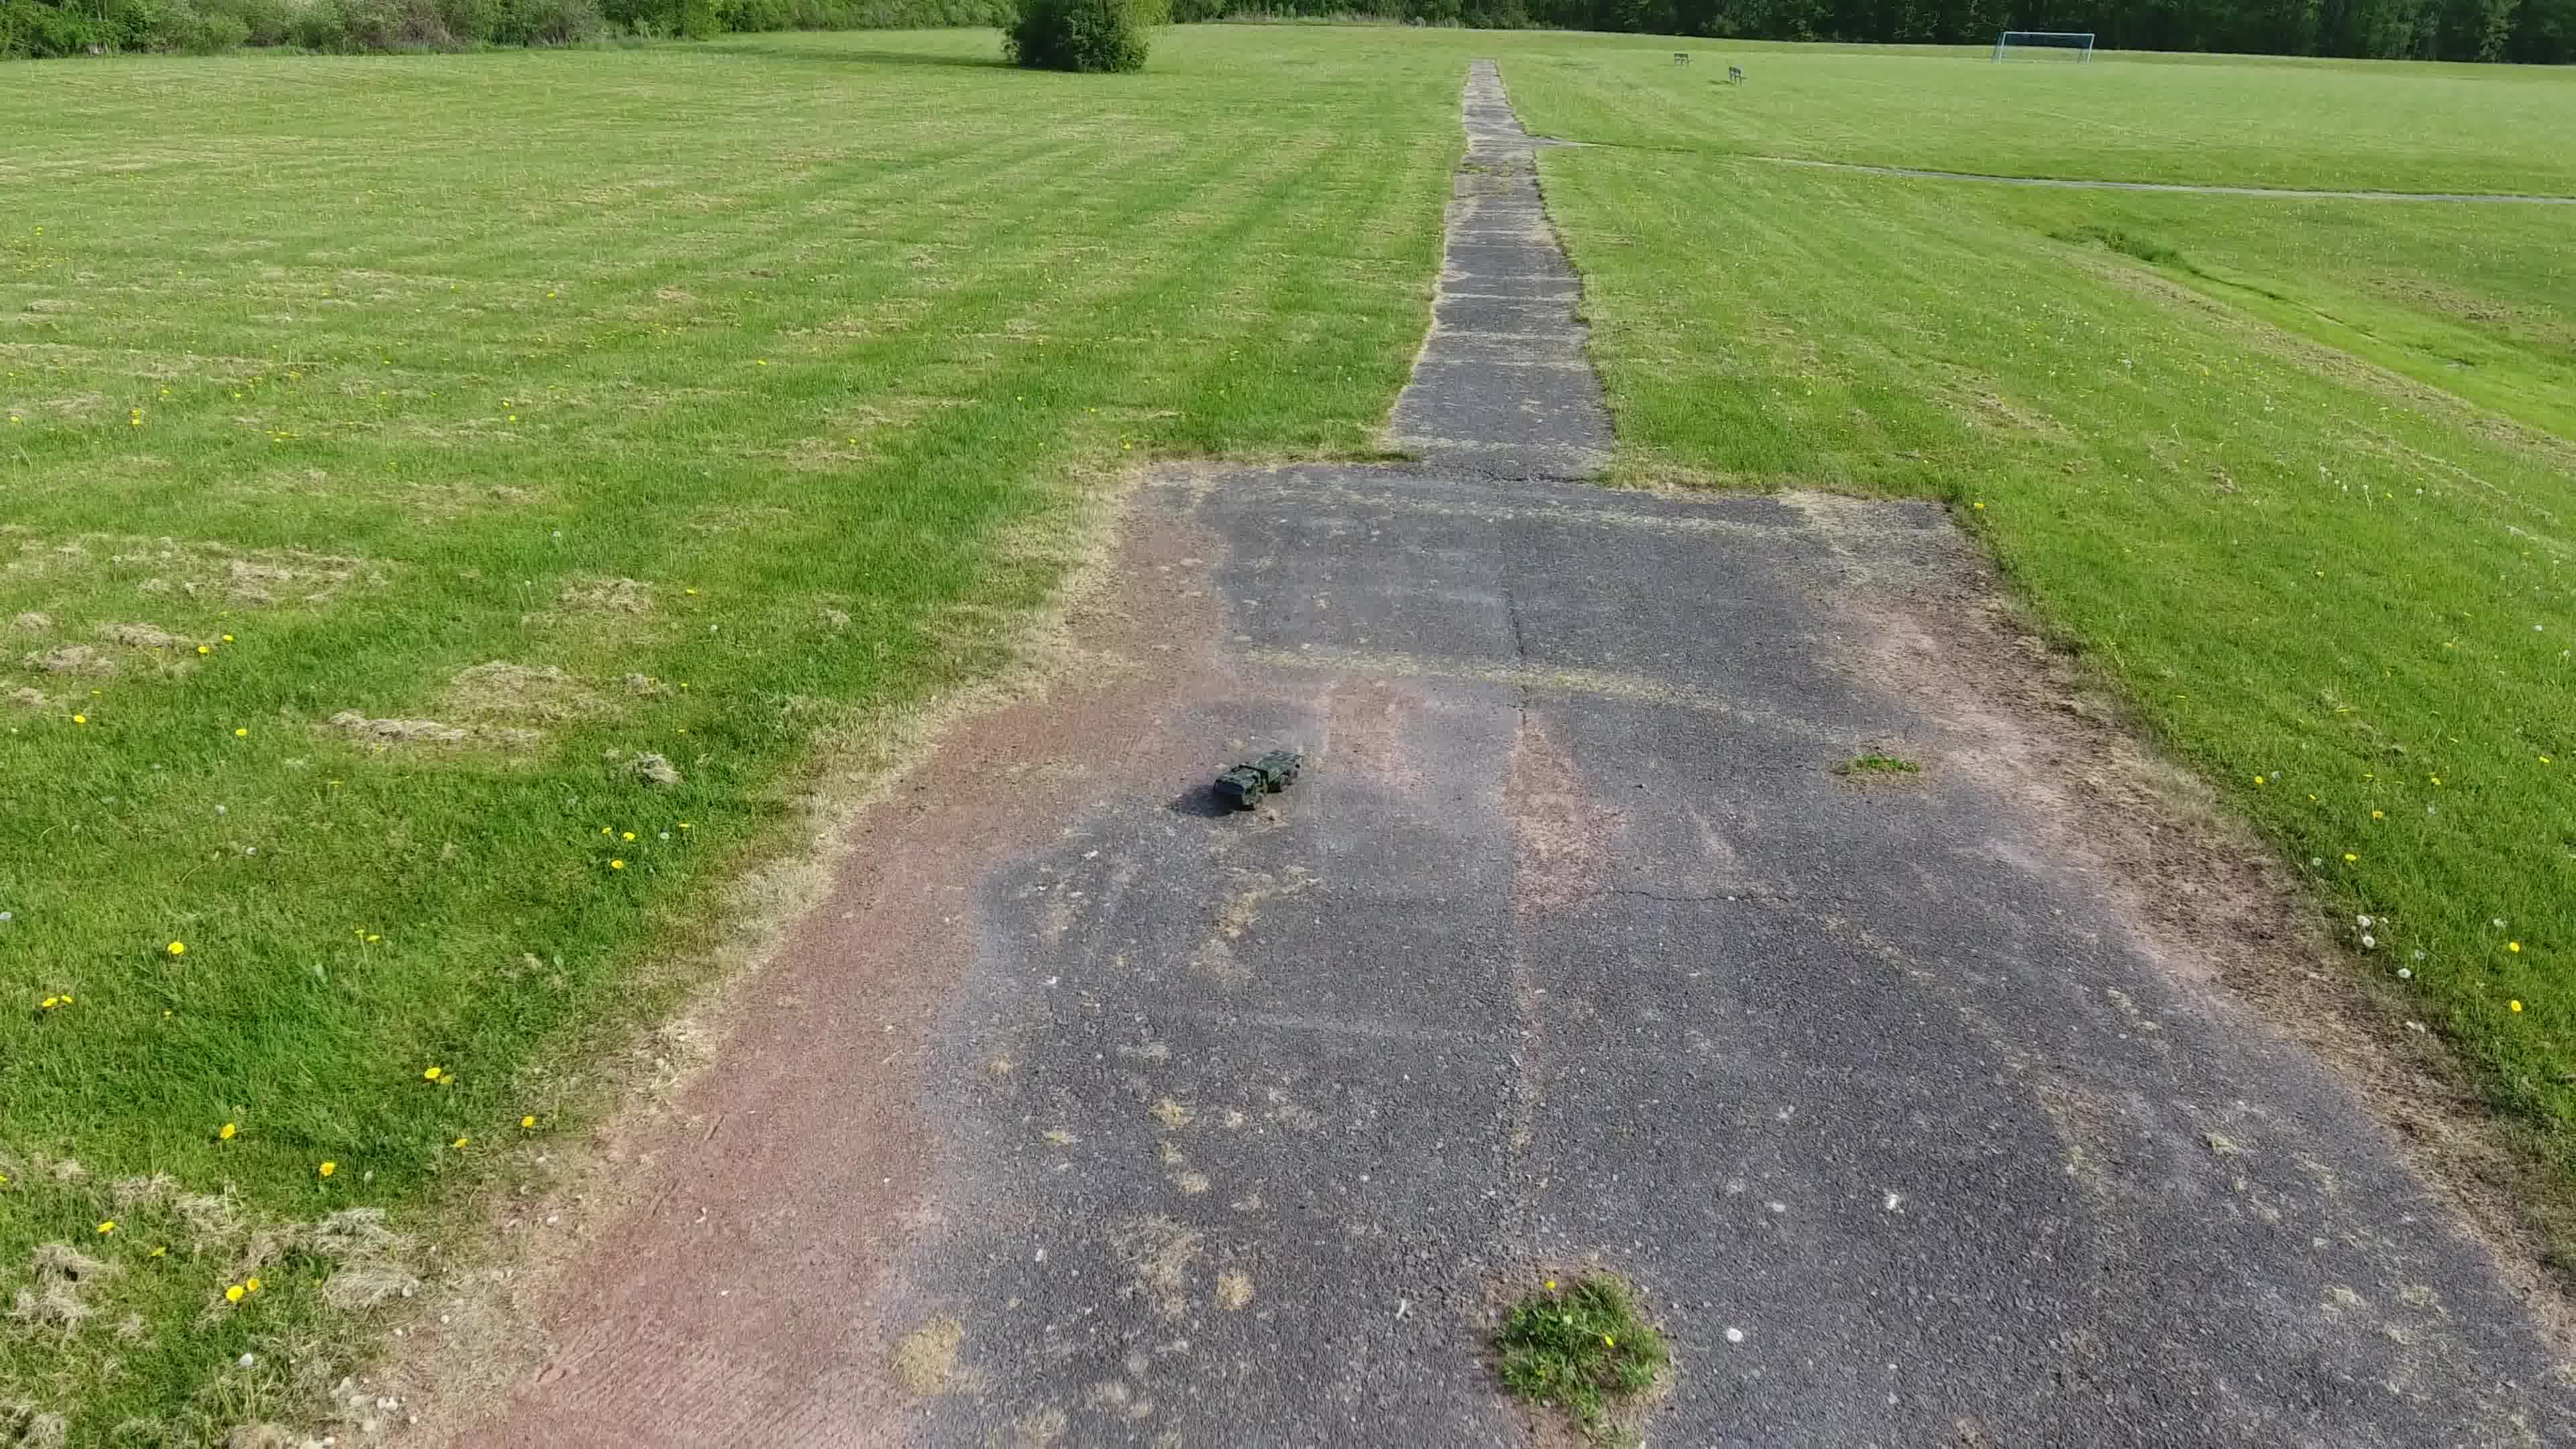transporter9_camo: (1210, 747, 1311, 810)
